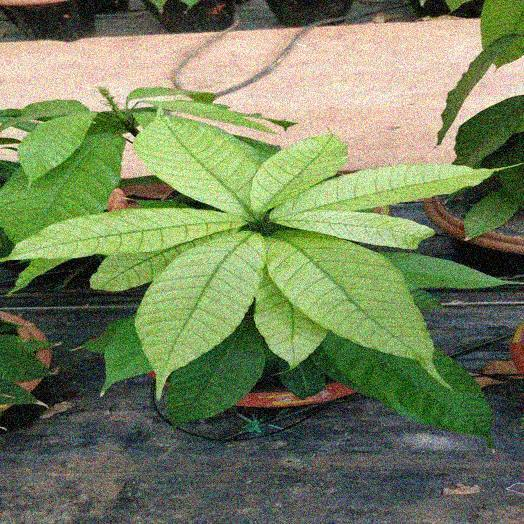Healthy Leaf: (320, 333, 491, 438), (0, 131, 123, 242), (166, 321, 264, 422), (19, 112, 93, 182), (85, 317, 151, 394), (455, 95, 523, 166), (383, 252, 509, 288), (464, 189, 517, 237)
Iron: (269, 233, 448, 387), (136, 231, 263, 398), (134, 113, 260, 217), (11, 209, 246, 259), (273, 164, 492, 217), (251, 134, 346, 211), (254, 271, 326, 368), (273, 211, 433, 248), (90, 241, 195, 291)
